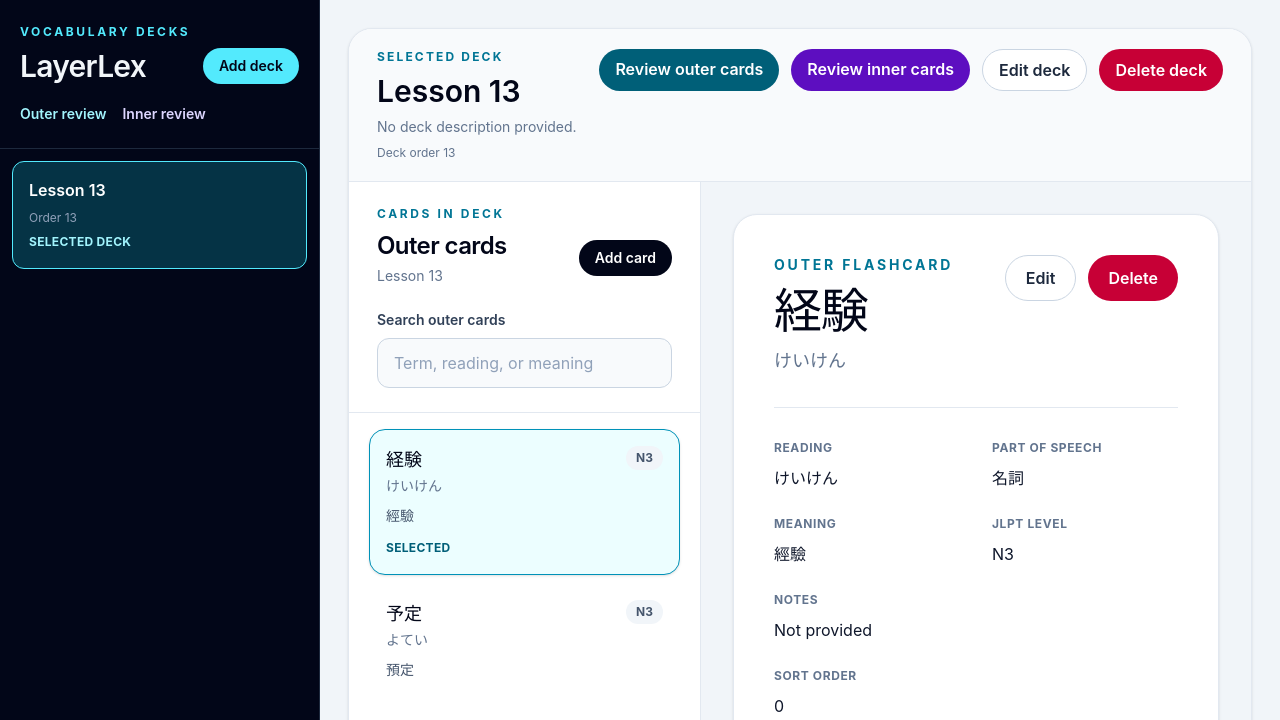
Test case: inner-card nested routing and retrieval › clears inner selection when another outer card is selected
What coordinates should you click on to do the following:
click the link "予定 よてい N3 預定"
I would click on:
 (404, 614)
Its box is [369,583,680,699].
(page scrolled)
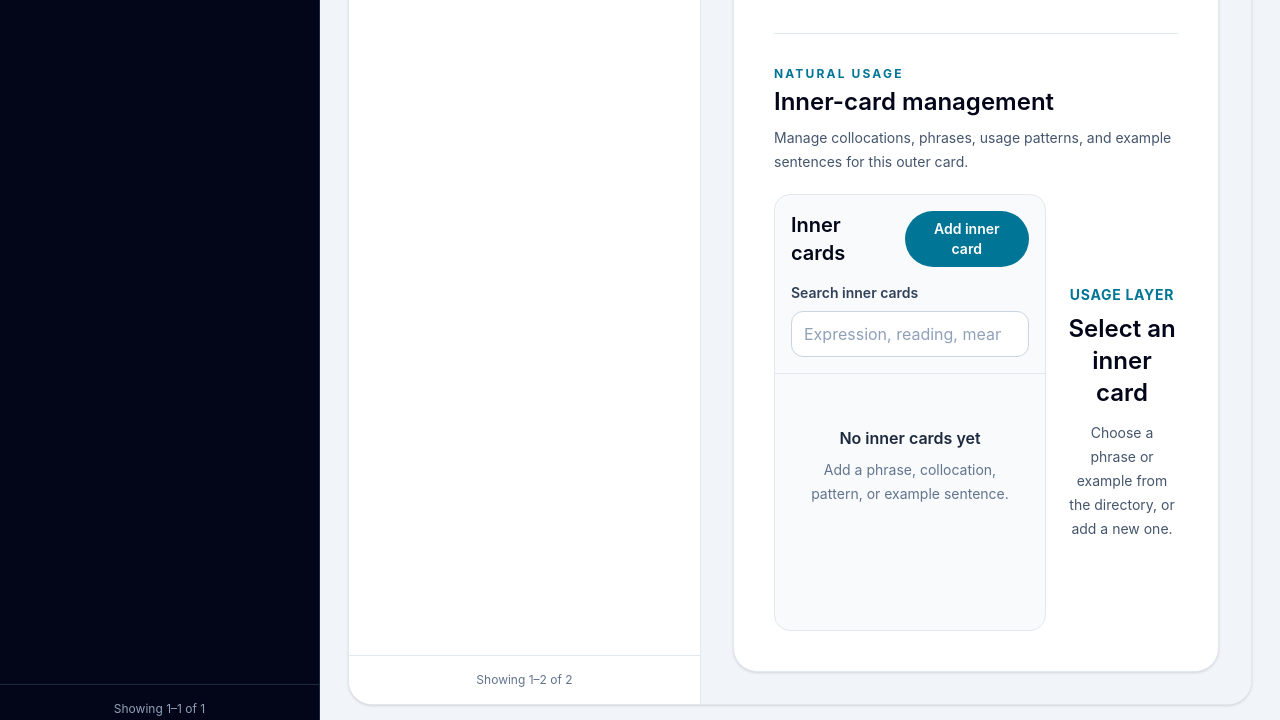
Check: the heading "Select an inner card" is shown, box [1066,312,1178,408]
